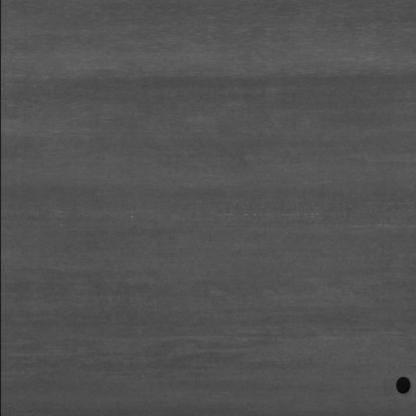punching_hole: (389, 373, 415, 396)
